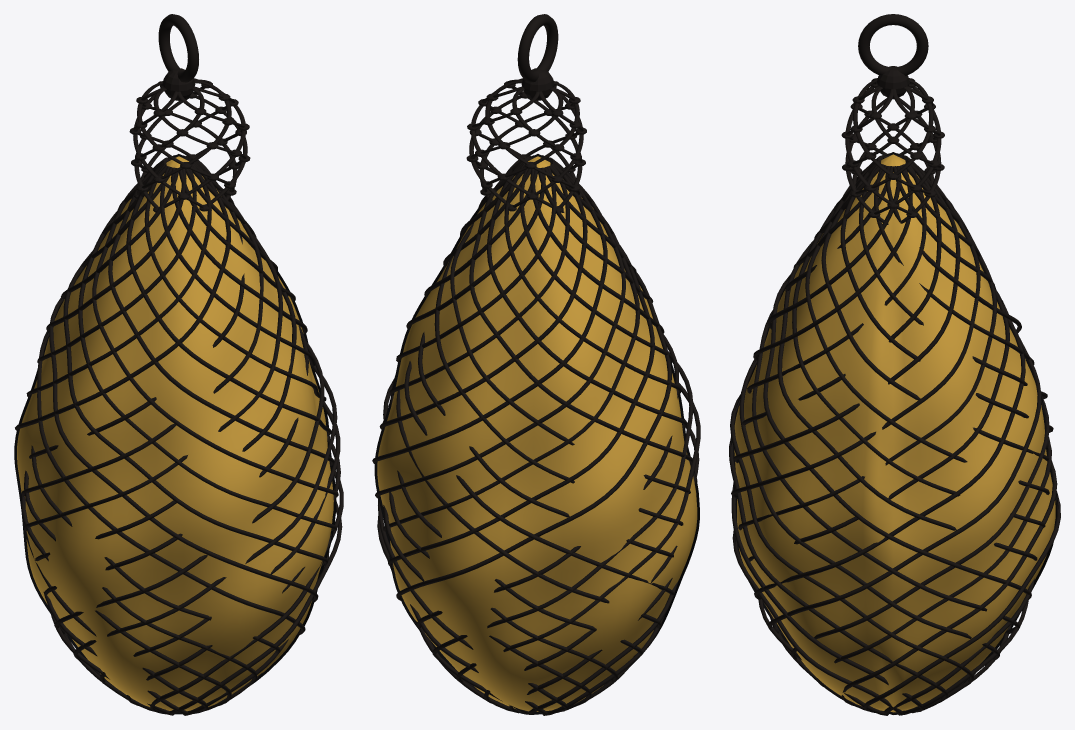
Rendered from heunetz-voll-6kg.glb.
3 views of the same model, side by side, from view 1: azimuth 30°, elevation 25°; view 2: azimuth 150°, elevation 25°; view 3: azimuth 270°, elevation 25° (orthographic).
Visible parts, largest first — view 1: heu_koerper, netz, netz_leer_oben, knoten_leer_oben, schlaufe, knoten; view 2: heu_koerper, netz, netz_leer_oben, knoten_leer_oben, schlaufe, knoten; view 3: heu_koerper, netz, netz_leer_oben, knoten_leer_oben, schlaufe, knoten.
Boxes of the visible parts, x1,y1,x2,y2 form: heu_koerper: (14,154,336,714); netz: (15,155,343,715); netz_leer_oben: (133,78,247,208); knoten_leer_oben: (129,81,250,212); schlaufe: (158,14,198,82); knoten: (162,68,195,100); heu_koerper: (374,154,699,714); netz: (372,155,700,715); netz_leer_oben: (469,78,583,212); knoten_leer_oben: (466,81,586,212); schlaufe: (517,14,558,82); knoten: (521,68,554,100); heu_koerper: (731,152,1058,714); netz: (729,153,1060,715); netz_leer_oben: (845,78,941,224); knoten_leer_oben: (841,82,944,217); schlaufe: (858,14,928,75); knoten: (877,66,909,98).
Bounding box in the file's own units: 51.99 × 120 × 51.95.
